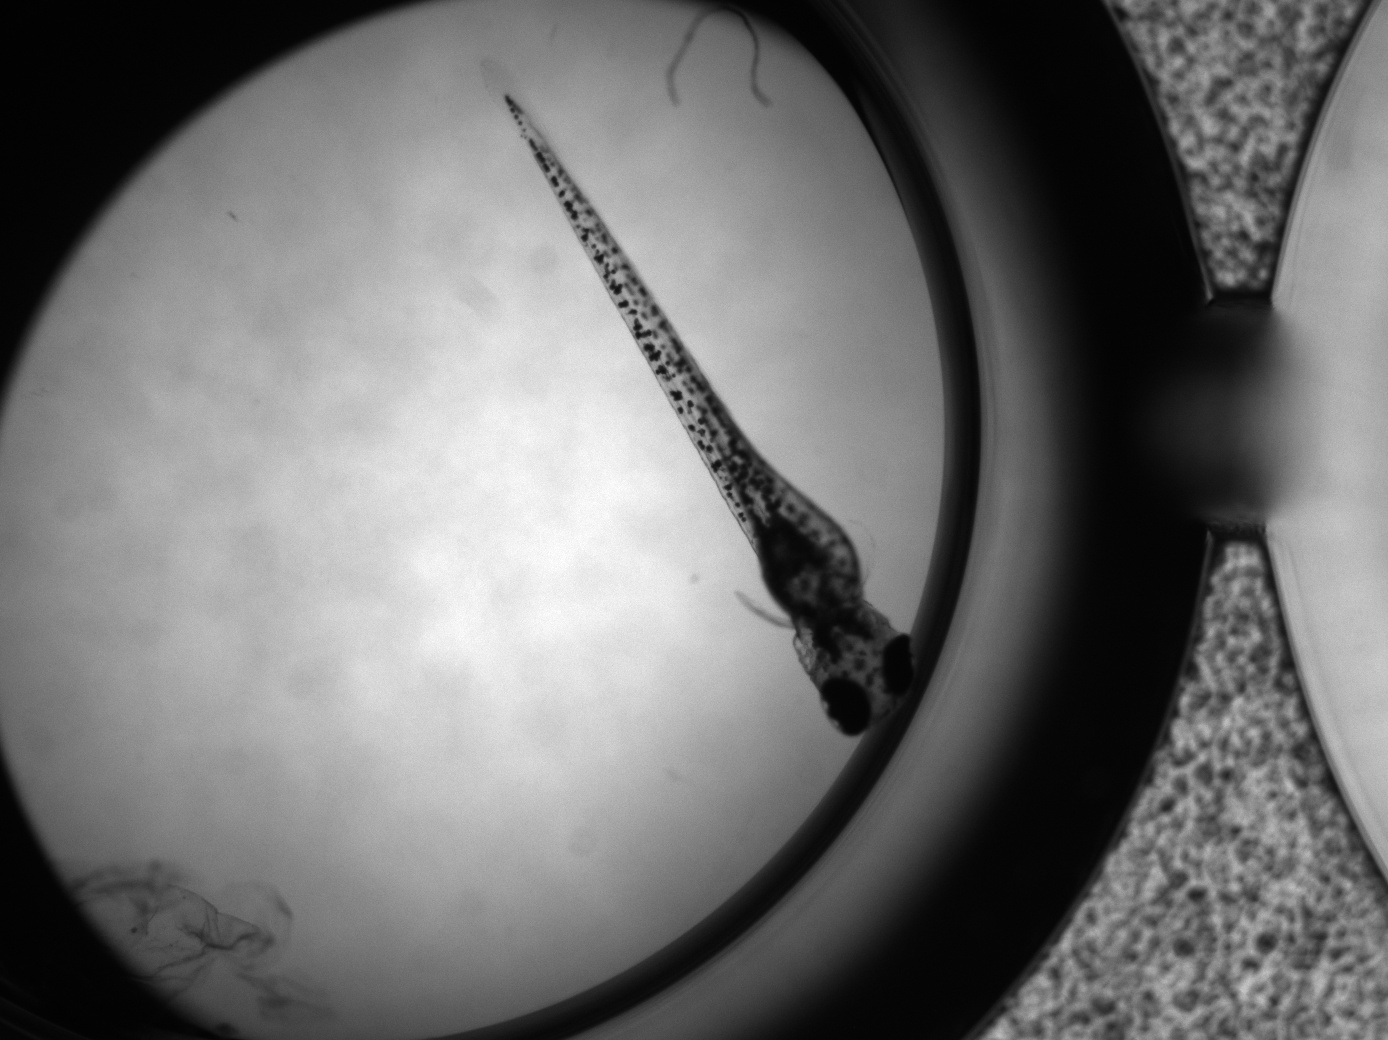debris: (55, 868, 289, 994), (656, 1, 778, 113)
embryo: (506, 95, 915, 737)
eye: (820, 678, 871, 737), (883, 634, 915, 698)
yolksac: (755, 510, 863, 608)
